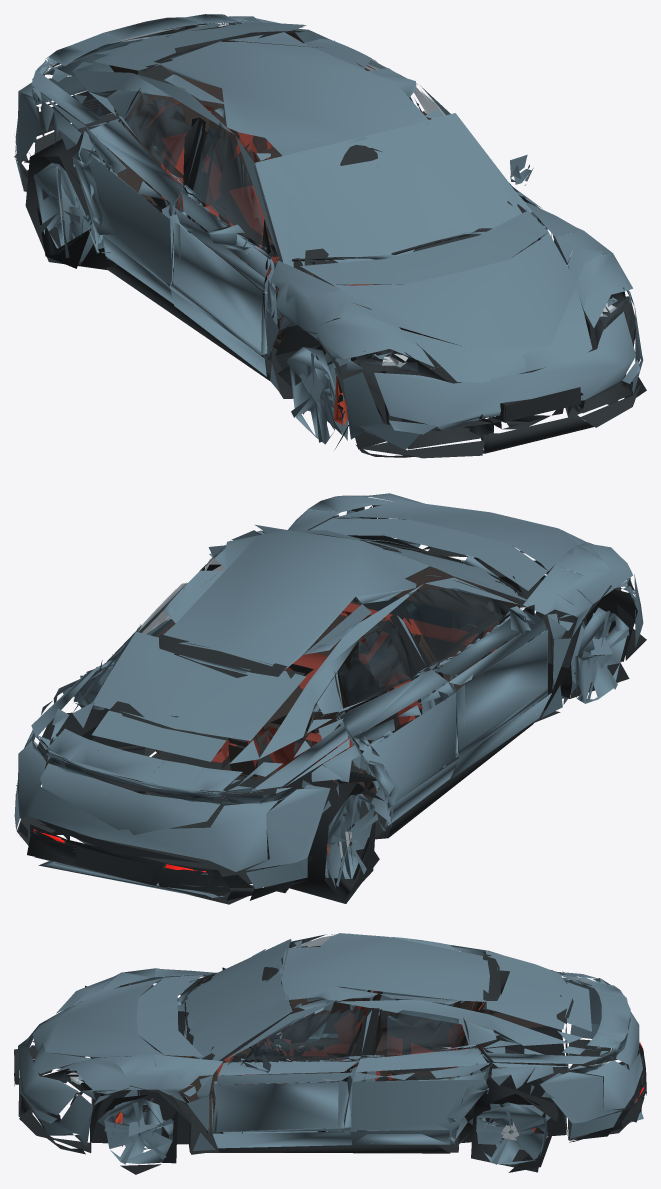
File: porsche-taycan-lod2.glb
3 views of the same model, one above another, from view 1: azimuth 30°, elevation 25°; view 2: azimuth 150°, elevation 25°; view 3: azimuth 270°, elevation 25° (orthographic). The views are drawn at different scales.
Parts seen in each view (by area): view 1: Traffic_body, Traffic_RL, Traffic_FL; view 2: Traffic_body, Traffic_RL, Traffic_FL, Traffic_RR; view 3: Traffic_body, Traffic_RR, Traffic_FR.
Boxes of the visible parts, x1=… form: Traffic_body: x1=14, y1=14, x2=646, y2=458; Traffic_RL: x1=25, y1=130, x2=115, y2=270; Traffic_FL: x1=277, y1=345, x2=350, y2=448; Traffic_body: x1=14, y1=493, x2=646, y2=904; Traffic_RL: x1=289, y1=780, x2=384, y2=903; Traffic_FL: x1=549, y1=603, x2=634, y2=704; Traffic_RR: x1=37, y1=709, x2=109, y2=834; Traffic_body: x1=14, y1=933, x2=646, y2=1154; Traffic_RR: x1=468, y1=1079, x2=558, y2=1172; Traffic_FR: x1=97, y1=1090, x2=177, y2=1174.
Bounding box in the file's own units: 2.13 × 1.41 × 4.93.
